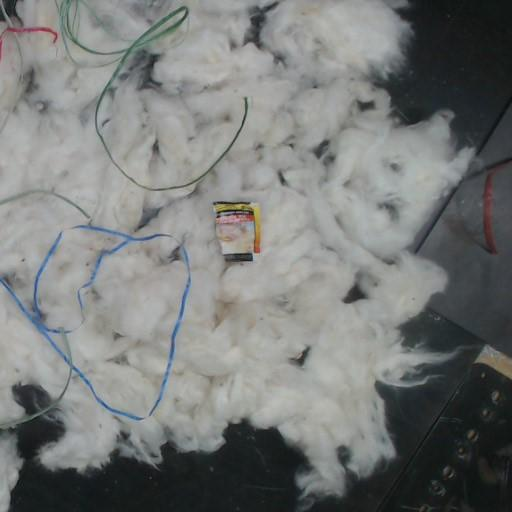cotton: (0, 0, 474, 508)
packet: (214, 201, 260, 261)
thread: (57, 0, 248, 191), (0, 278, 185, 429), (93, 227, 167, 276), (0, 188, 89, 219), (214, 98, 248, 165), (0, 25, 57, 64), (33, 232, 62, 304)
